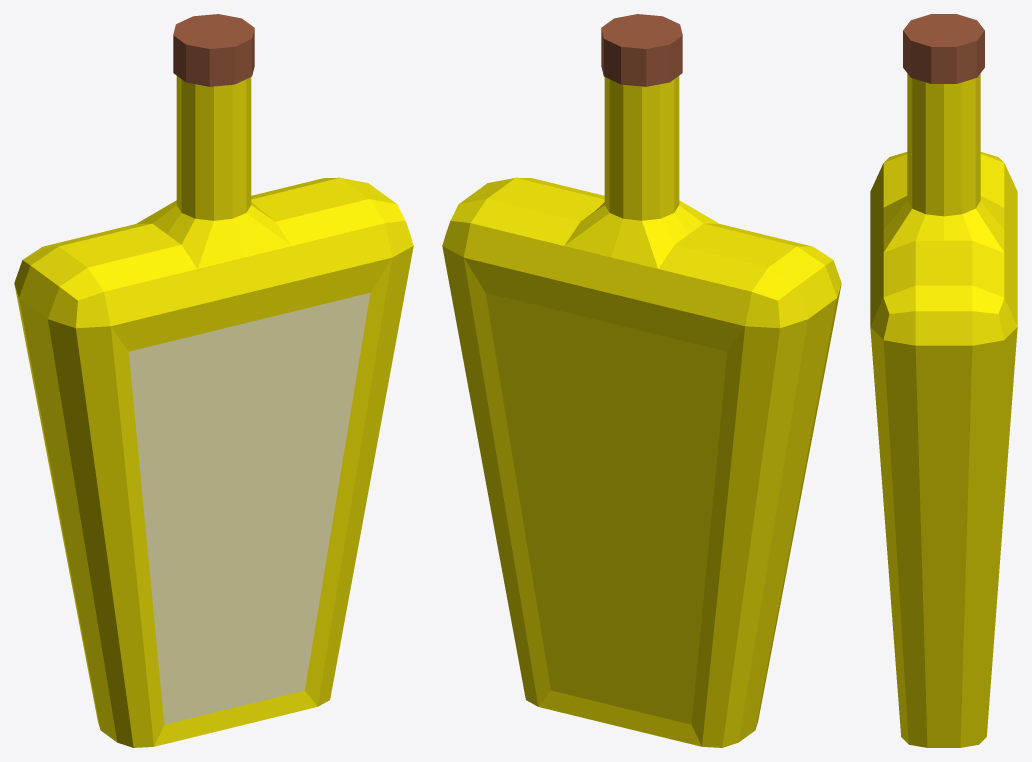
File: bottle4.fbx
3 renders of one model, left to right at view 1: azimuth 30°, elevation 25°; view 2: azimuth 150°, elevation 25°; view 3: azimuth 270°, elevation 25°, orthographic.
Parts seen in each view (by area): view 1: bottle4; view 2: bottle4; view 3: bottle4.
Boxes of the visible parts, x1,y1,x2,y2 form: bottle4: (14, 14, 413, 747); bottle4: (442, 14, 841, 747); bottle4: (870, 14, 1017, 747).
Bounding box in the file's own units: 13.65 × 24.53 × 4.91.
